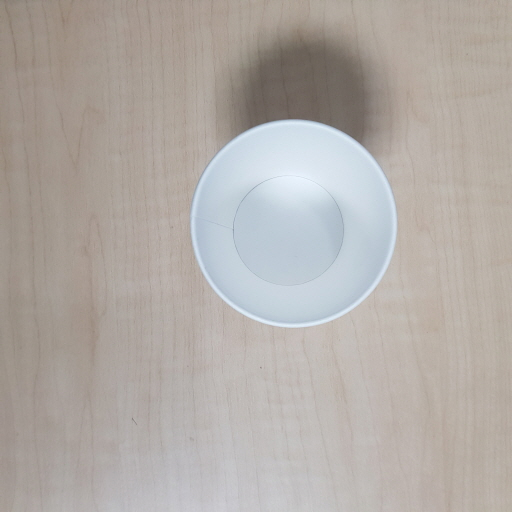Paper_1: (188, 117, 400, 329)
